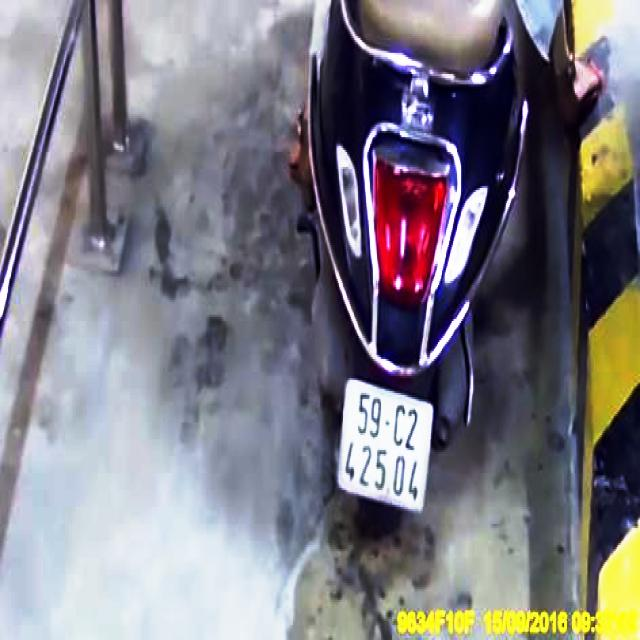license_plate: (334, 376, 437, 514)
